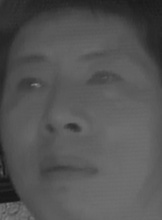eye: (84, 66, 123, 91), (14, 75, 49, 98)
mouth: (39, 148, 98, 186)
